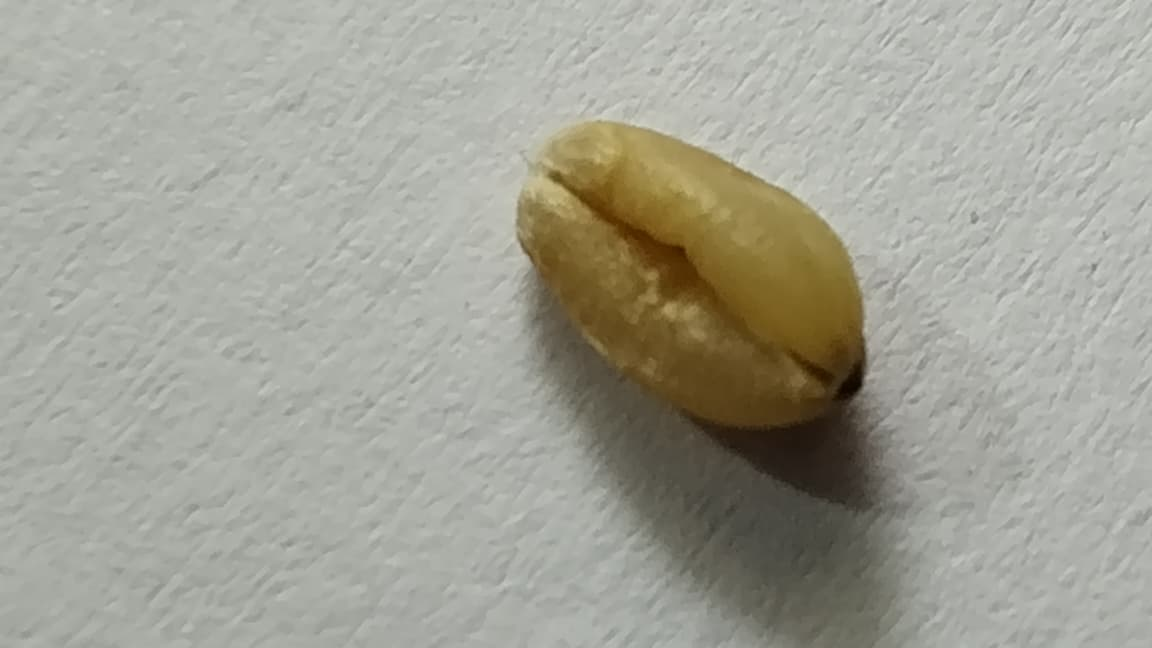healthy: (517, 122, 864, 425)
